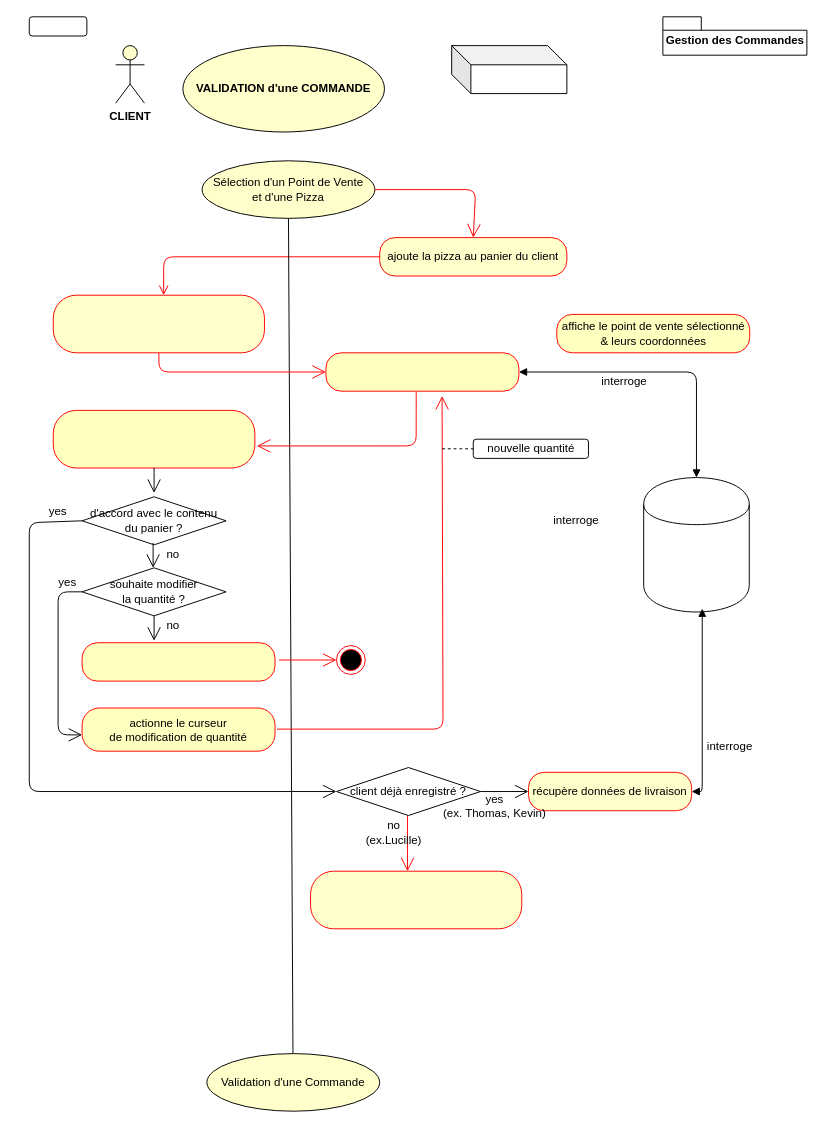
Image size: 824x1129. Some labels were removed from this diagram. The centre of each missing label's shape, as x and y in pixels:
affiche le contenu du panier: point (422, 371)
Base de Données: point (696, 544)
clique sur le bouton d'abandon ou de déconnexion: point (178, 661)
clique sur le sélecteur de visualisation de son panier: point (158, 323)
OC'Pizza: point (57, 26)
SYSTEME: point (509, 69)
visualise et vérifie les éléments constitutifs du panier: point (153, 438)
